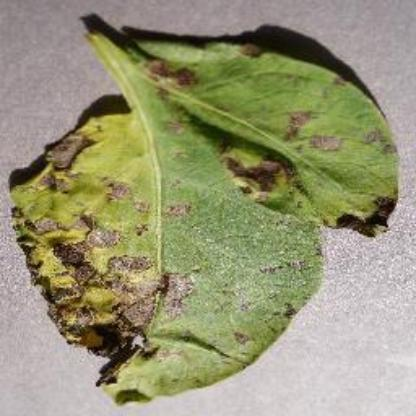Early-Blight: (7, 25, 322, 401), (121, 14, 400, 236)
